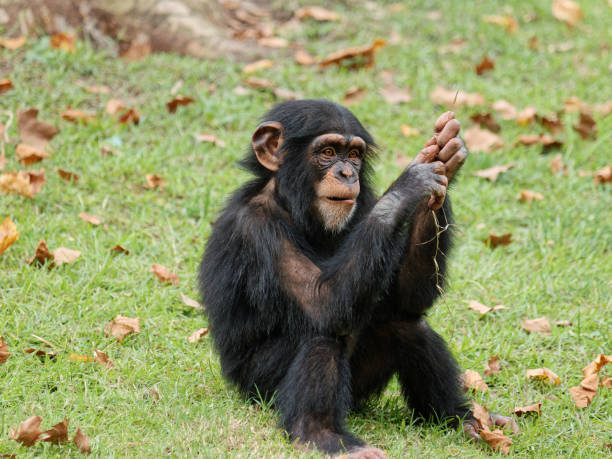chimpanzee: (228, 66, 408, 256)
